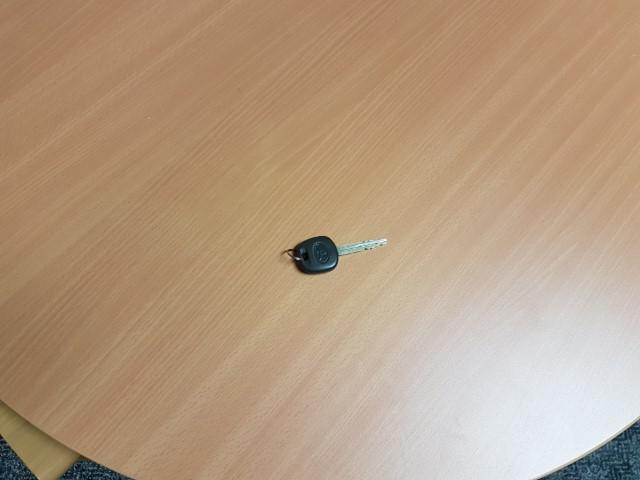key: (293, 236, 388, 271)
